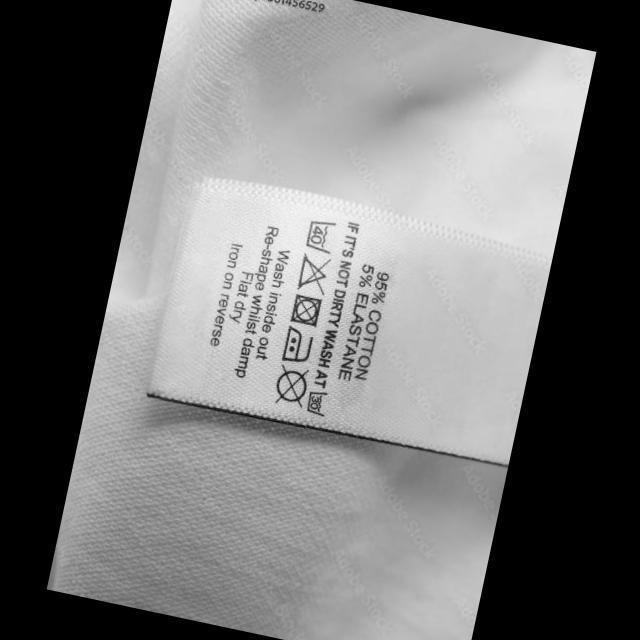40C: (300, 214, 338, 256)
DN_bleach: (290, 249, 332, 297)
DN_dry_clean: (267, 360, 311, 410)
DN_tumble_dry: (286, 290, 322, 329)
iron_medium: (276, 324, 314, 367)
